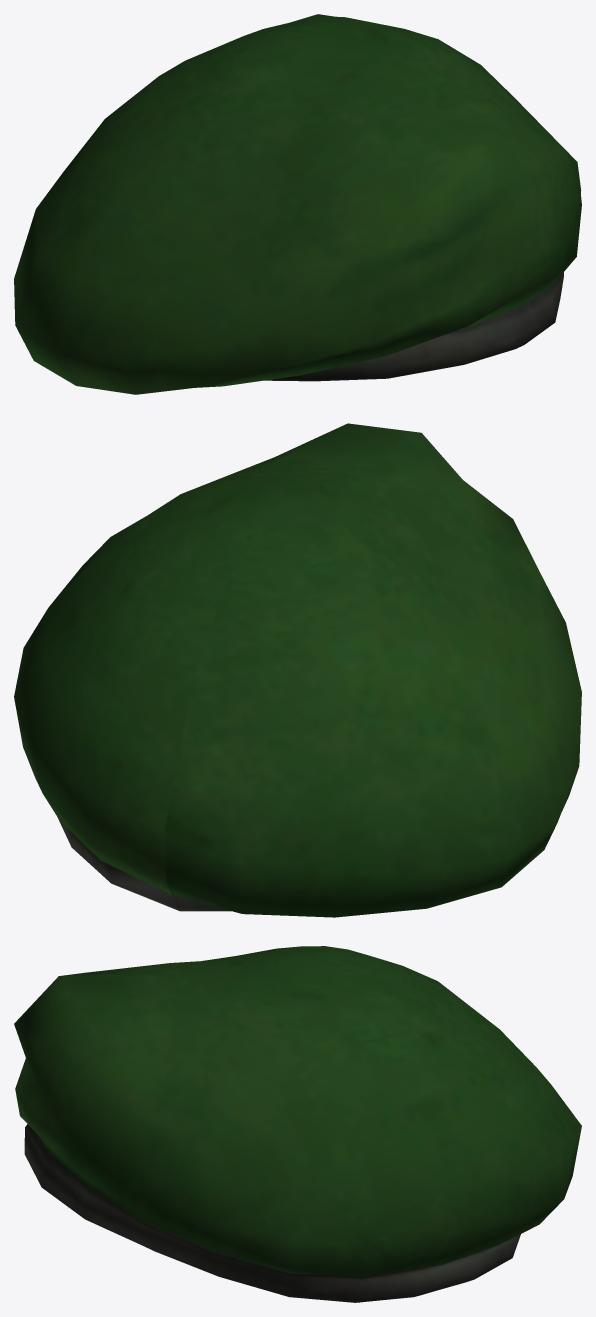
File: Hat 10.FBX
The picture shows the model from 3 angles, top to bottom: view 1: azimuth 30°, elevation 25°; view 2: azimuth 150°, elevation 25°; view 3: azimuth 270°, elevation 25°; orthographic projection. The views are drawn at different scales.
Parts seen in each view (by area): view 1: hat 10; view 2: hat 10; view 3: hat 10.
Boxes of the visible parts, x1,y1,x2,y2 form: hat 10: (14,14,581,394); hat 10: (14,423,581,917); hat 10: (14,946,581,1302).
Bounding box in the file's own units: 23.33 × 13.61 × 24.99.
Materials: 1 (1 with a texture image).
